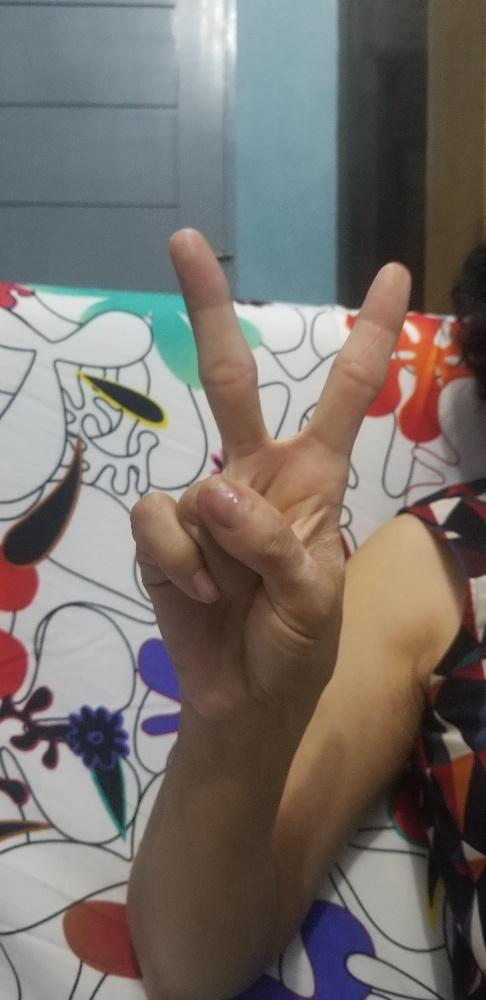v: (131, 223, 413, 714)
